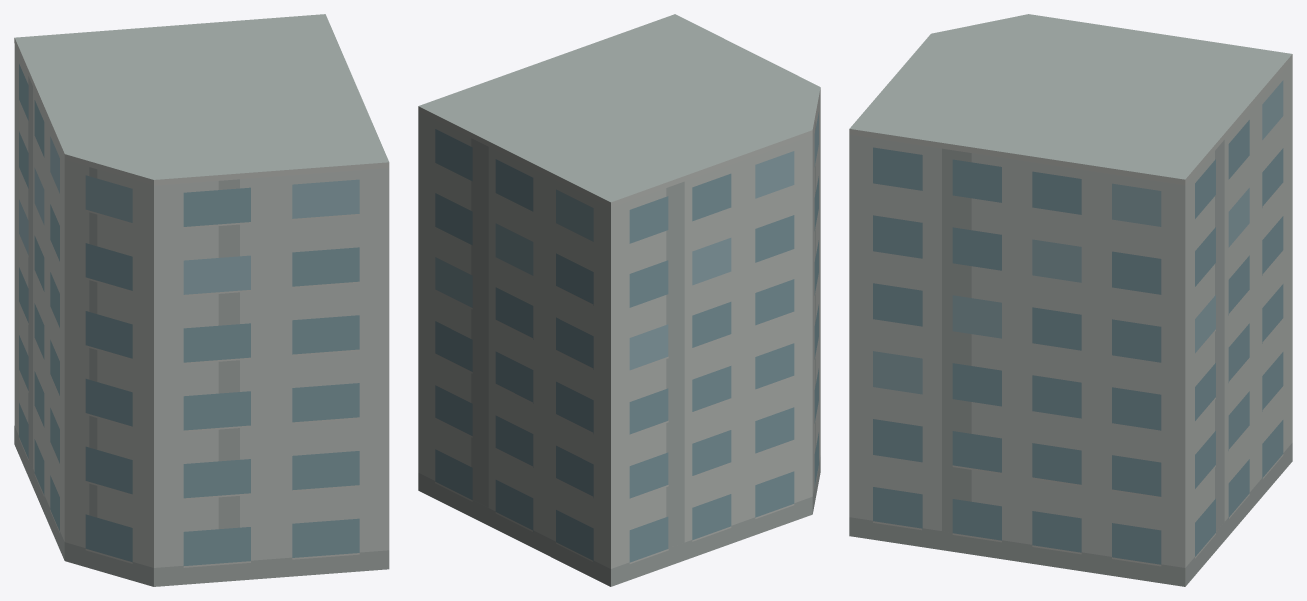
The model's file is survey-upis-32851044.glb.
The picture shows the model from 3 angles, left to right: view 1: azimuth 30°, elevation 25°; view 2: azimuth 150°, elevation 25°; view 3: azimuth 270°, elevation 25°; orthographic projection. The views are drawn at different scales.
Parts seen in each view (by area): view 1: survey-upis-32851044.tmp; view 2: survey-upis-32851044.tmp; view 3: survey-upis-32851044.tmp.
Part boxes in pixels (x1,y1,x2,y2): survey-upis-32851044.tmp: (14, 14, 389, 586); survey-upis-32851044.tmp: (418, 14, 820, 586); survey-upis-32851044.tmp: (849, 14, 1292, 586).
Size of the model in its own units: 14.92 by 17.1 by 16.87.
